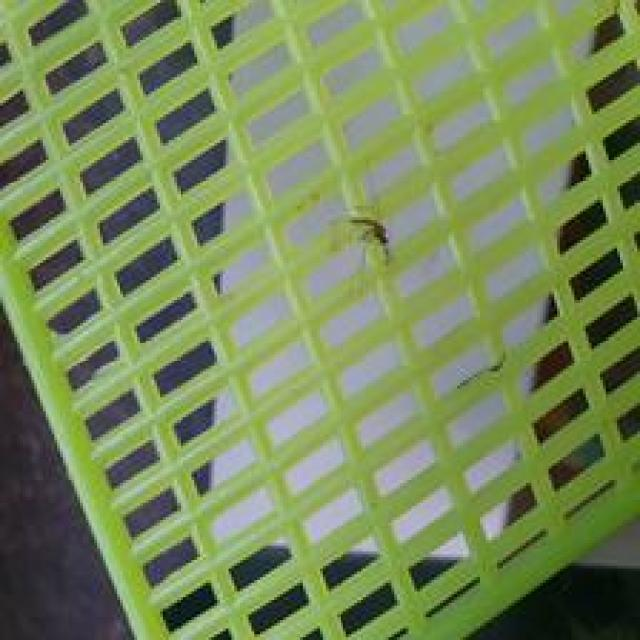Culex: (347, 214, 393, 266)
